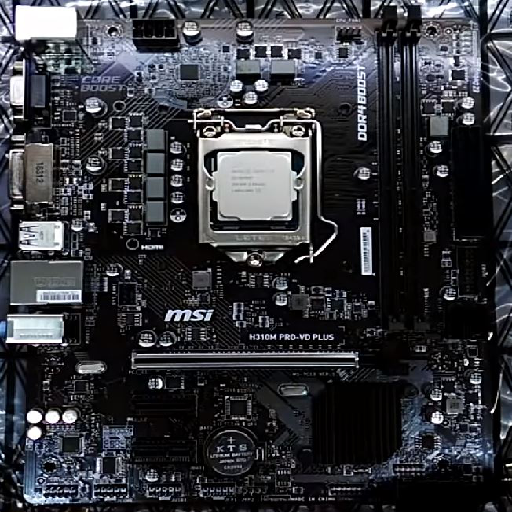CPU: (192, 107, 321, 262)
GPU: (128, 344, 389, 374)
MOTHERBOARD: (1, 4, 511, 510)
RAM: (373, 6, 426, 328)
